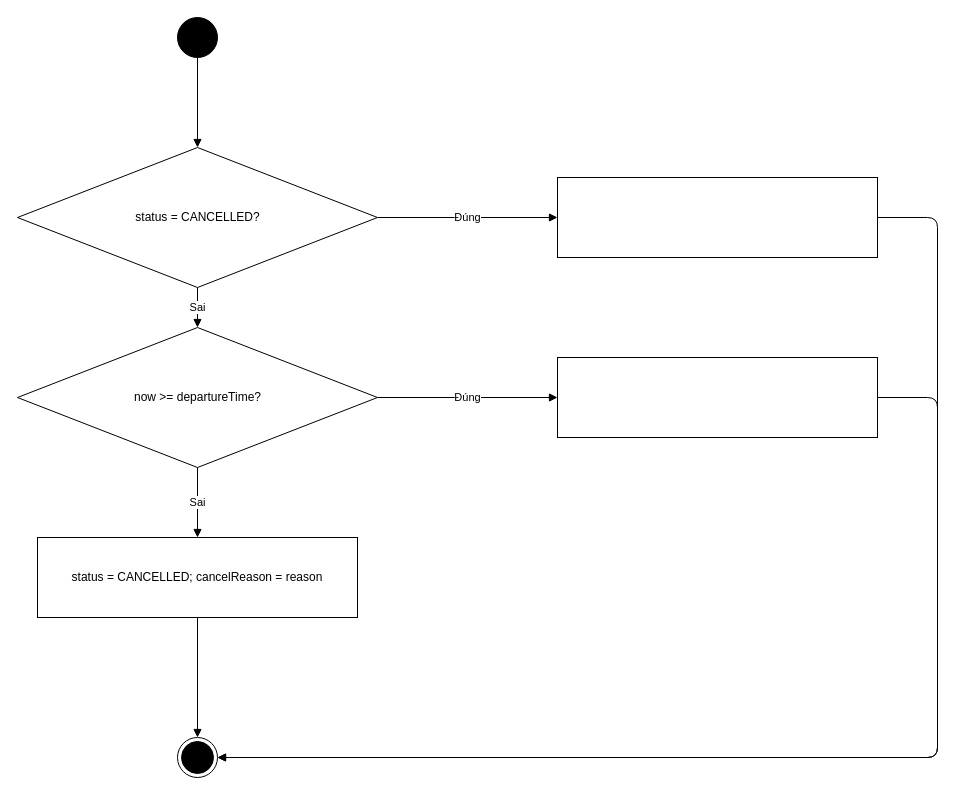
This 963x795 diagram has some shape labels left out. The centre of each missing label's shape, as x and y in pixels:
Ném TripAlreadyCancelledException (luồng 4a): the point at 717,217
Ném TripDepartedException (luồng 4b): the point at 717,397
